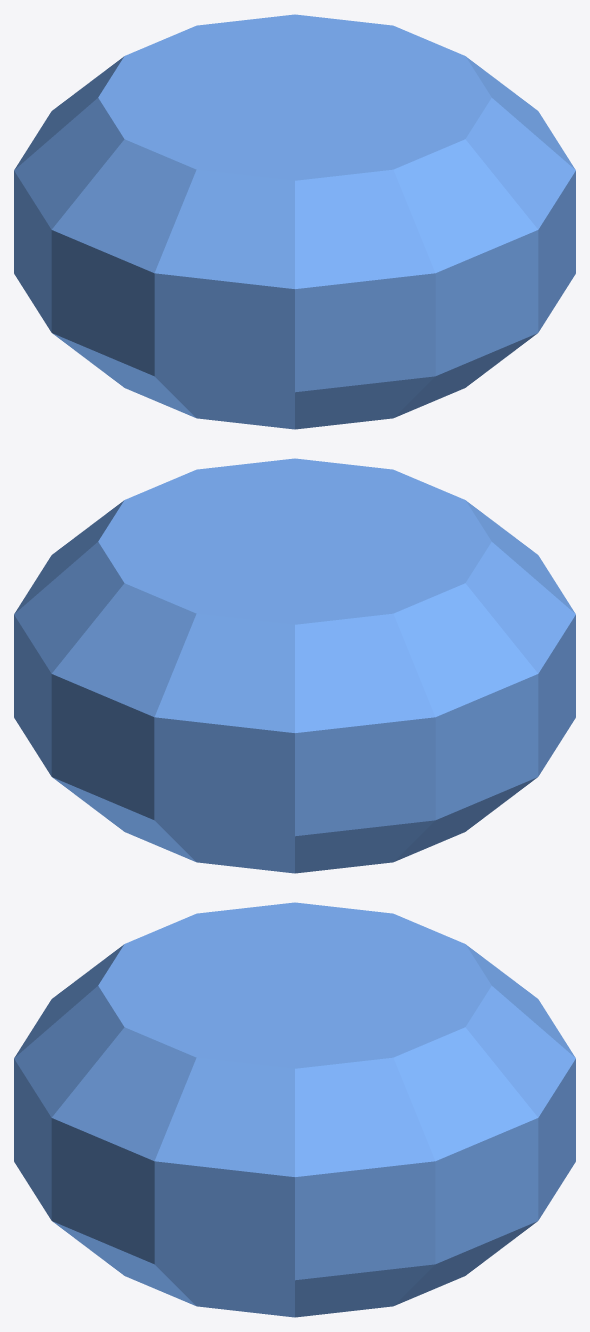
File: Crystal_Blue_E.fbx
The picture shows the model from 3 angles, top to bottom: view 1: azimuth 30°, elevation 25°; view 2: azimuth 150°, elevation 25°; view 3: azimuth 270°, elevation 25°; orthographic projection.
Parts seen in each view (by area): view 1: Crystal_Blue_E; view 2: Crystal_Blue_E; view 3: Crystal_Blue_E.
Part boxes in pixels (left/top/right/bottom): Crystal_Blue_E: left=14, top=14, right=575, bottom=429; Crystal_Blue_E: left=14, top=458, right=575, bottom=873; Crystal_Blue_E: left=14, top=902, right=575, bottom=1317.
Bounding box in the file's own units: 84.61 × 41.32 × 84.61.
